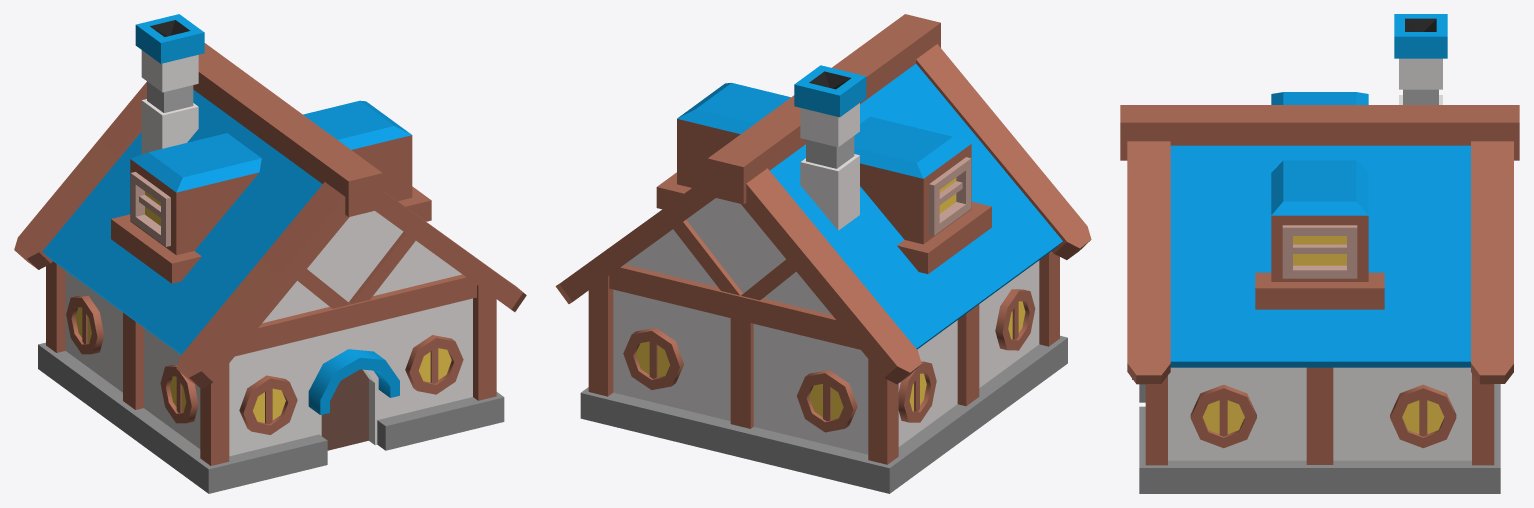
Rendered from house_018.fbx.
3 views of the same model, side by side, from view 1: azimuth 30°, elevation 25°; view 2: azimuth 150°, elevation 25°; view 3: azimuth 270°, elevation 25° (orthographic). The views are drawn at different scales.
Parts seen in each view (by area): view 1: house_018; view 2: house_018; view 3: house_018.
Boxes of the visible parts, x1,y1,x2,y2 form: house_018: (14,14,526,493); house_018: (555,14,1091,493); house_018: (1120,14,1519,493).
Bounding box in the file's own units: 773 × 745 × 751.
2 materials, 2 textured.
